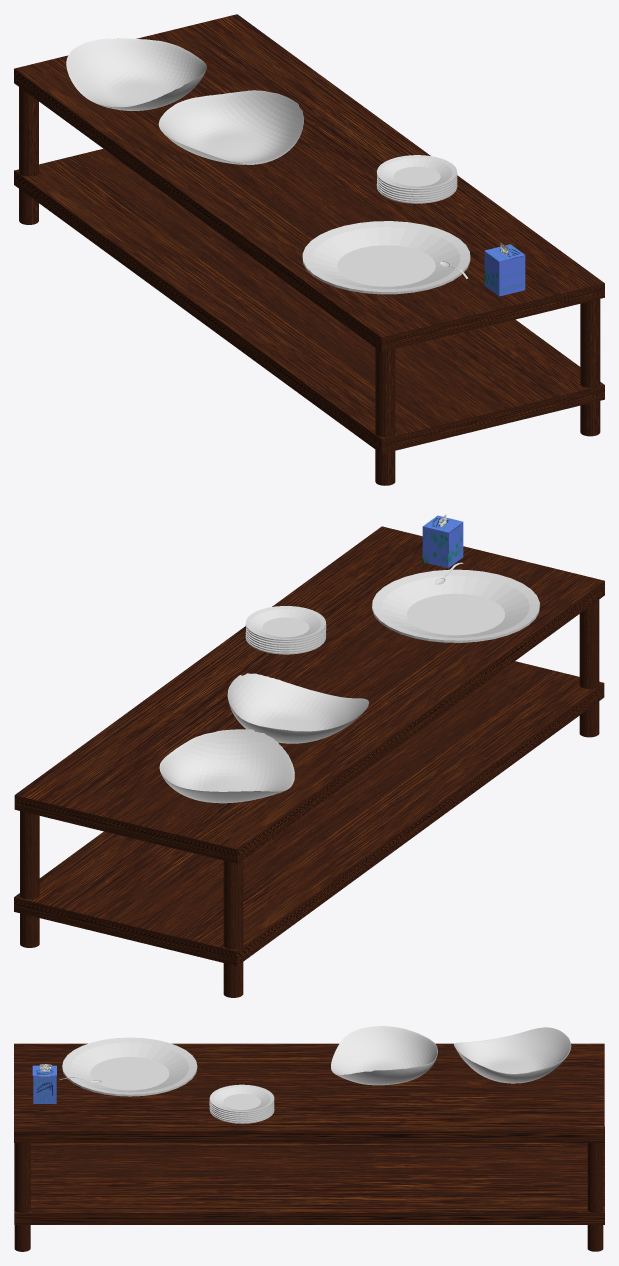
Rendered from coffeetable.glb.
3 renders of one model, top to bottom at view 1: azimuth 30°, elevation 25°; view 2: azimuth 150°, elevation 25°; view 3: azimuth 270°, elevation 25°, orthographic. The views are drawn at different scales.
Parts seen in each view (by area): view 1: table, bigplate, bowl, bowl.001, plate1, klerbnix; view 2: table, bigplate, bowl.001, bowl, plate1, klerbnix; view 3: table, bigplate, bowl, bowl.001, plate1, klerbnix.
Part boxes in pixels (x1,y1,x2,y2): table: (14,14,604,485); bigplate: (302,221,470,294); bowl: (158,90,303,164); bowl.001: (66,38,206,110); plate1: (376,155,457,190); klerbnix: (484,243,525,296); table: (14,526,604,997); bigplate: (372,569,539,642); bowl.001: (159,729,294,803); bowl: (227,673,368,743); plate1: (245,606,325,640); klerbnix: (422,514,463,568); table: (14,1043,604,1251); bigplate: (62,1037,197,1096); bowl: (331,1026,437,1085); bowl.001: (454,1027,571,1083); plate1: (209,1084,274,1112); klerbnix: (32,1064,56,1103).
Size of the model in its own units: 3.9 by 3.24 by 11.1.
Materials: 4 (3 with a texture image).
